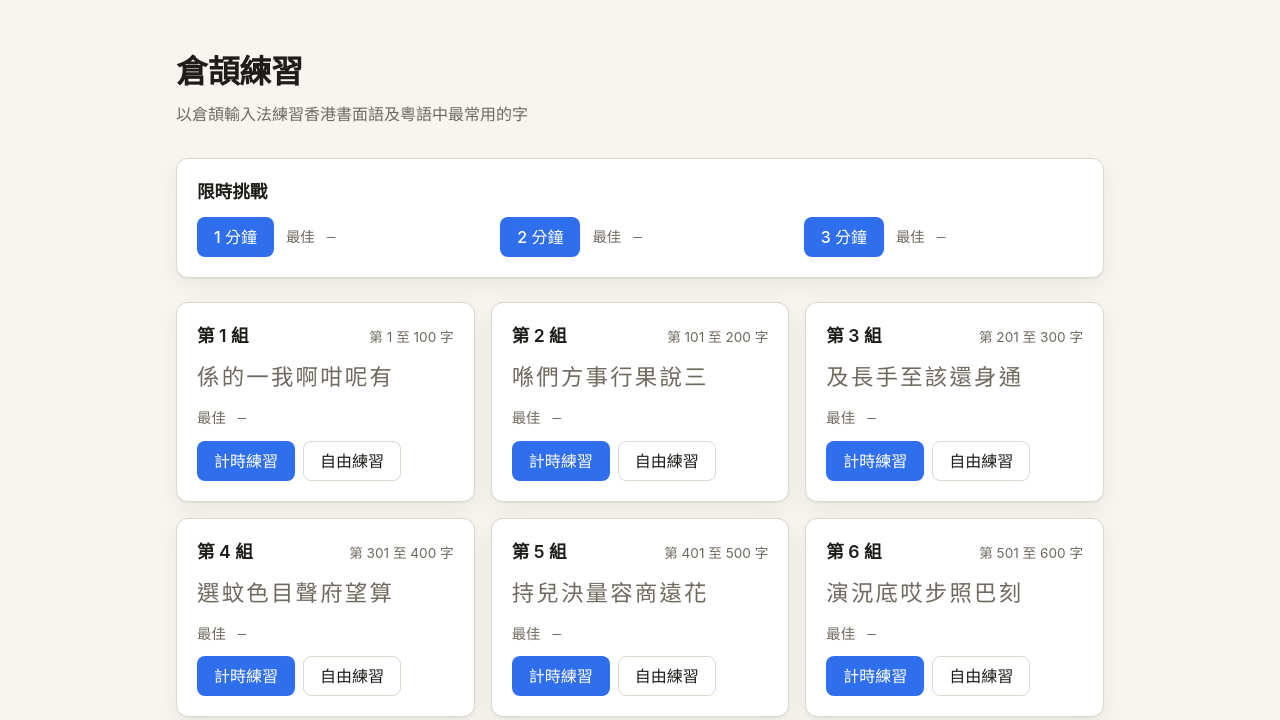
App › free mode never shows a report
The image size is (1280, 720).
Click the button "自由練習" below "係的一我啊咁呢有" at (352, 461), box [303,441,401,481]
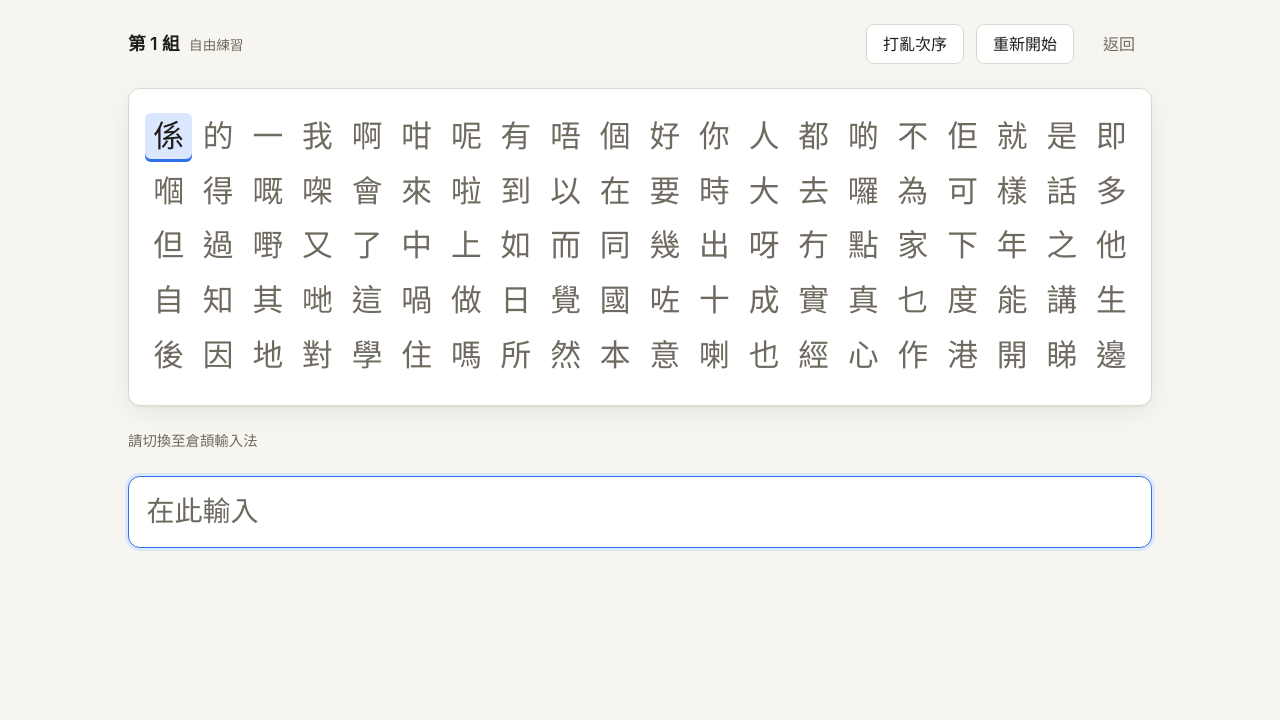
Type "係的一我啊咁呢有唔個好你人都啲不佢就是即嗰得嘅㗎會來啦到以在要時大去囉為可樣話多但過嘢又了中上如而同幾出呀冇點家下年之他自知其哋這喎做日覺國咗十成實真乜度能講生後因地對學住嗎所然本意喇也經心作港開睇邊" into the field at (640, 512), box [128,476,1152,548]
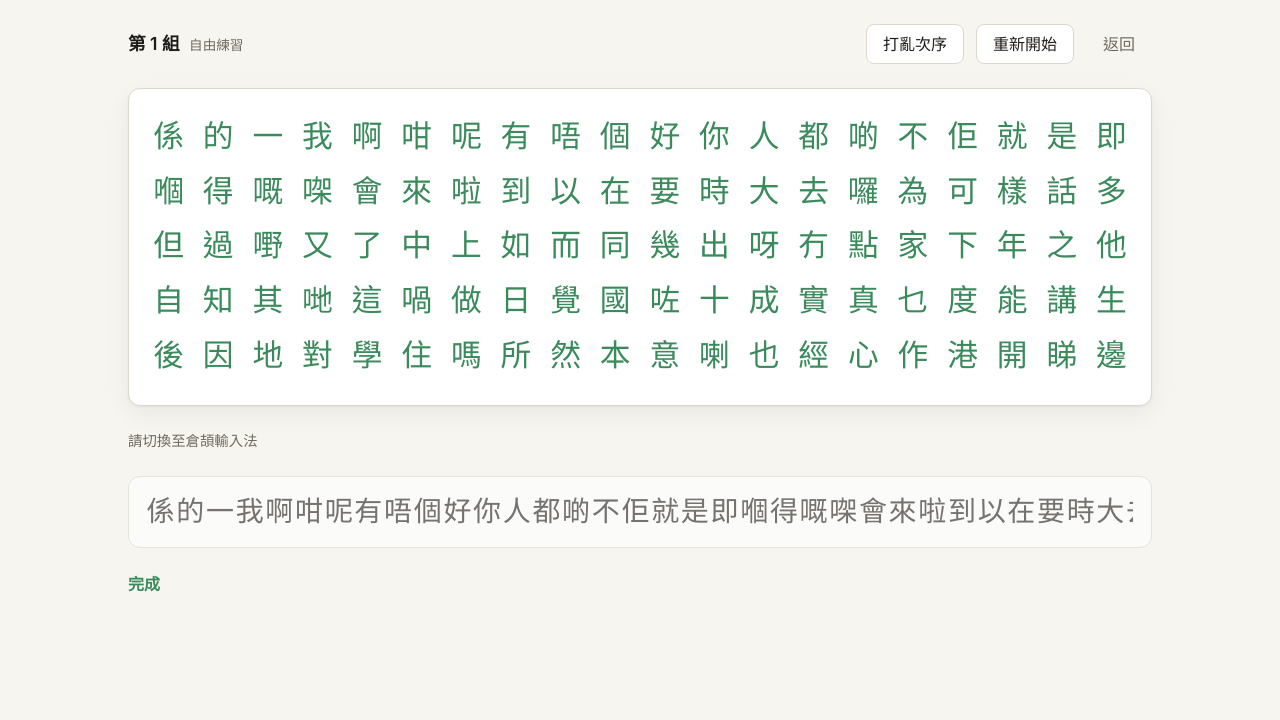
Result: the text "完成" is shown at [128,574,160,594]
